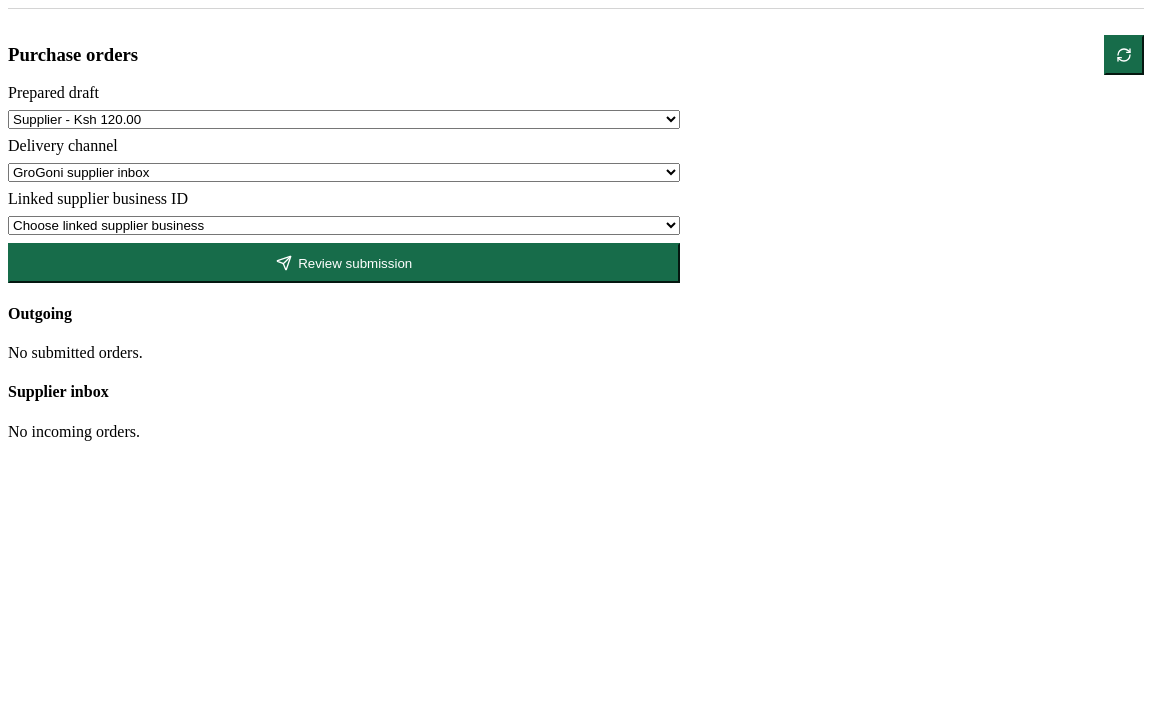
Test case: purchase order exact review › refuses a changed recipient in the server's proposed approval
Select "Supplier - Ksh 120.00" in the dropdown labelled "Prepared draft" at (344, 120), box [8,110,680,129]
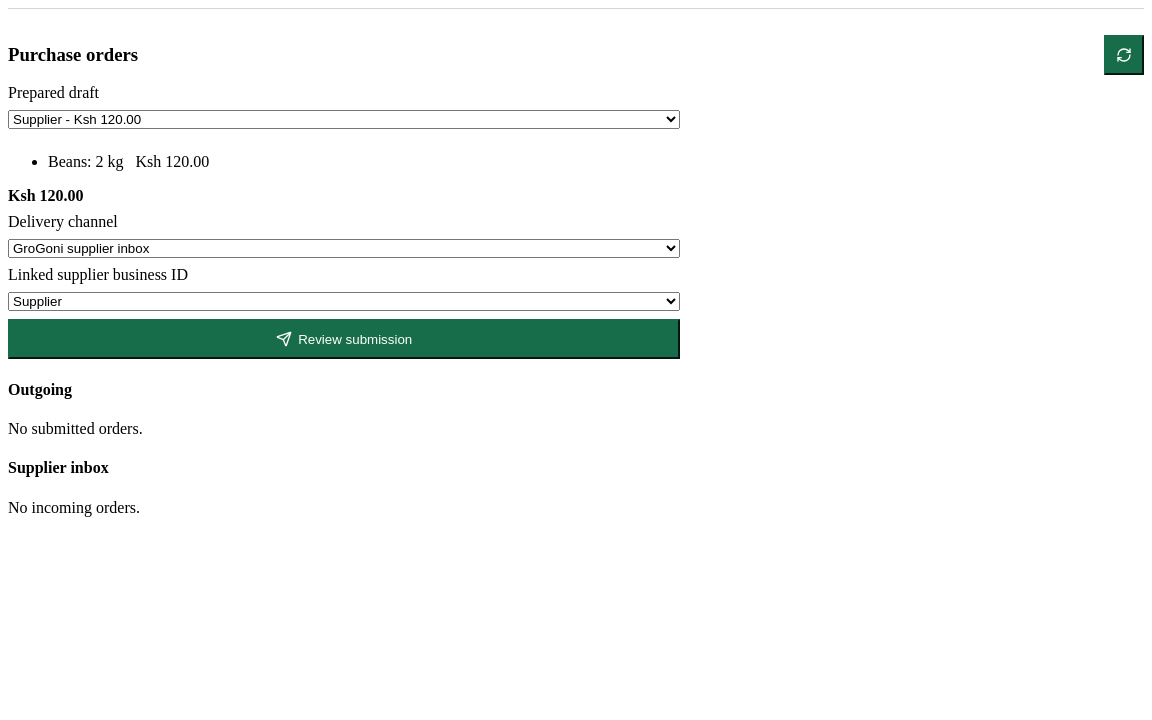
Select "Supplier" in the dropdown labelled "Linked supplier business ID" at (344, 302), box [8,292,680,311]
Submit the form, box [8,84,680,359]
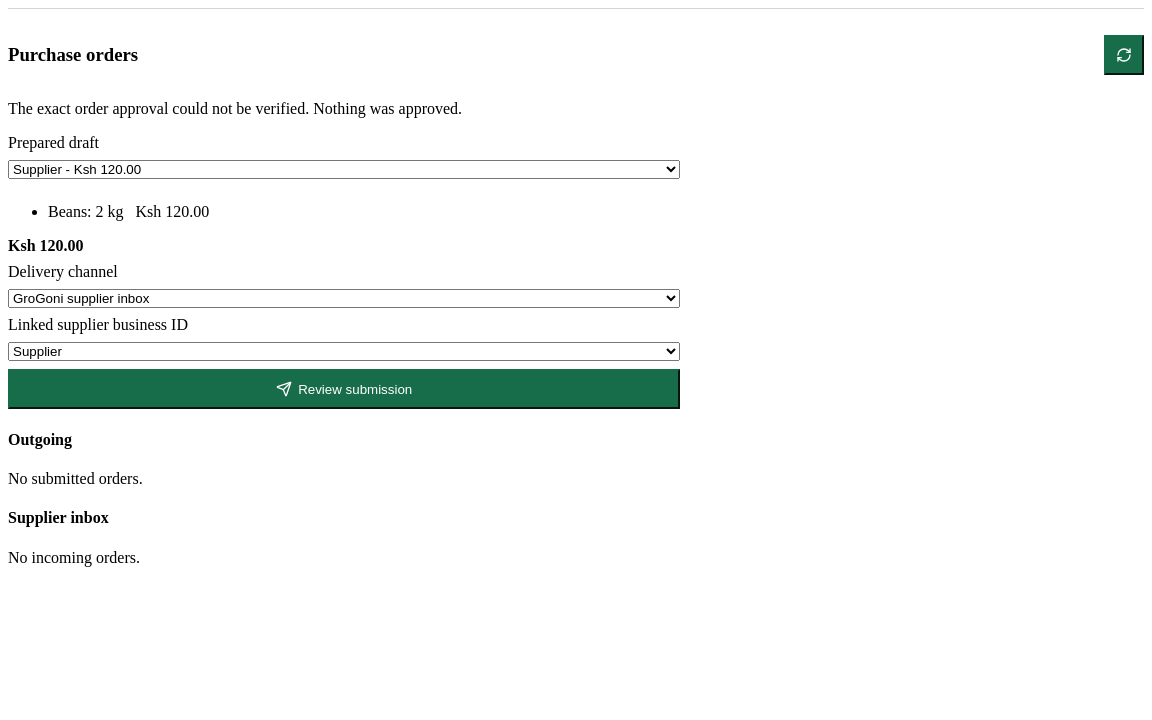
Expected: the message "The exact order approval could not be verified. Nothing was approved." is shown, [8,100,462,117]
